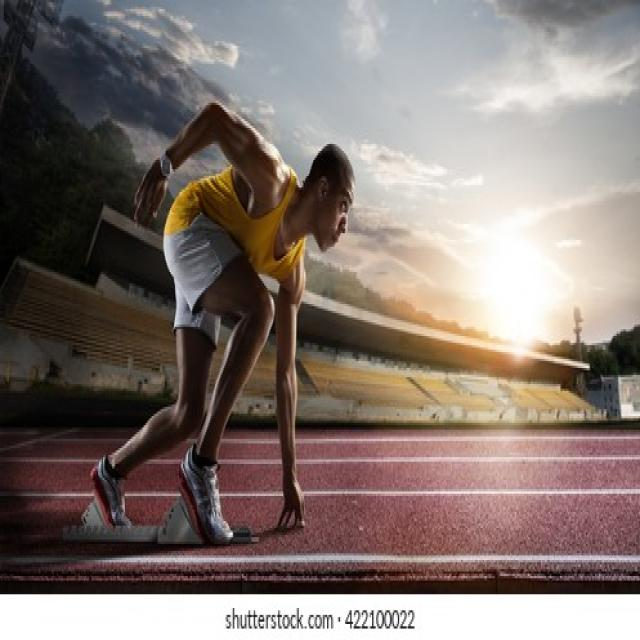running: (89, 102, 360, 550)
